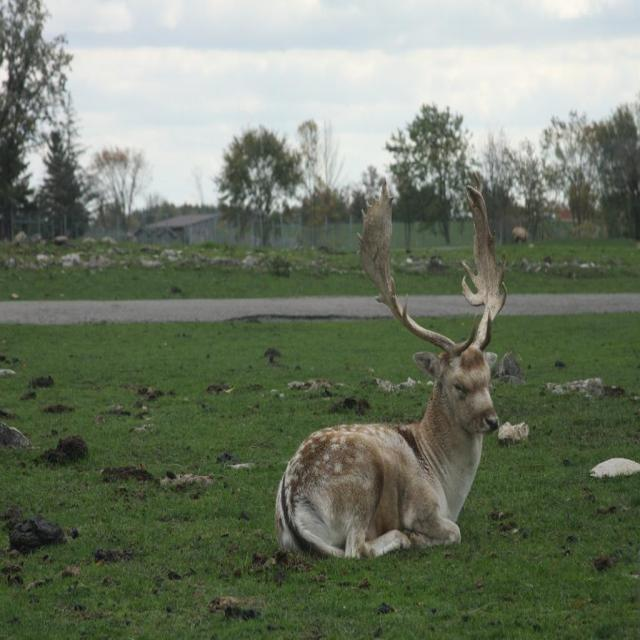Deer: (274, 178, 508, 561)
